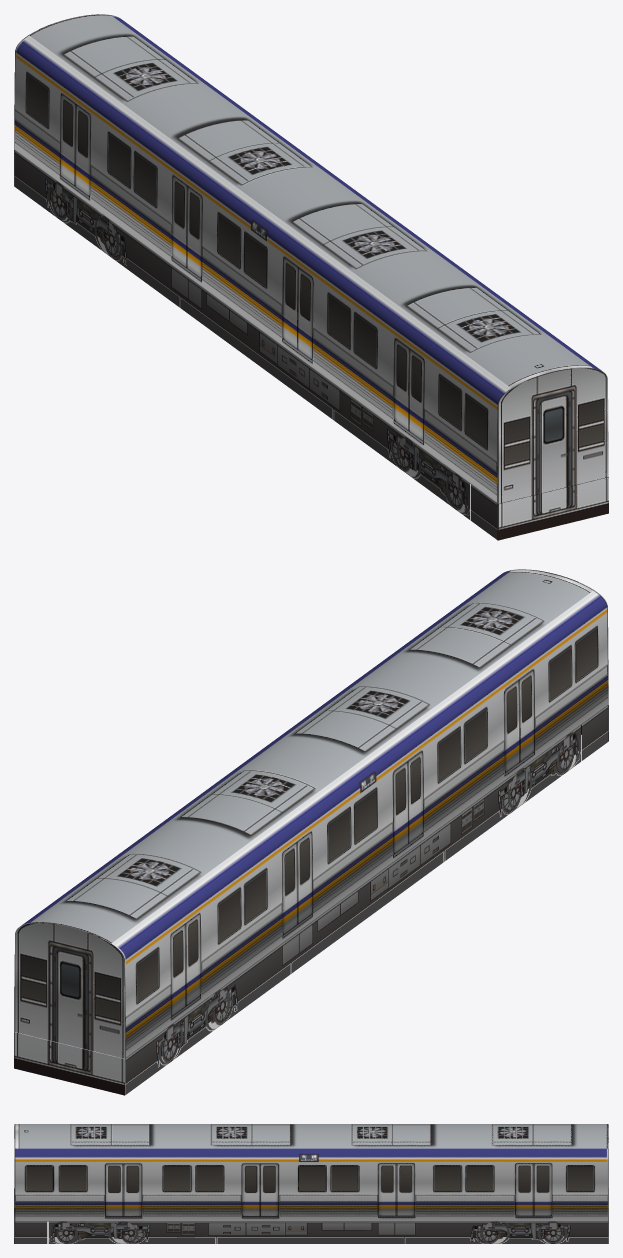
File: car3.glb
The picture shows the model from 3 angles, top to bottom: view 1: azimuth 30°, elevation 25°; view 2: azimuth 150°, elevation 25°; view 3: azimuth 270°, elevation 25°; orthographic projection. The views are drawn at different scales.
Visible parts, largest first — view 1: nankai-9000-car3; view 2: nankai-9000-car3; view 3: nankai-9000-car3.
Part boxes in pixels (left/top/right/bottom): nankai-9000-car3: left=14, top=14, right=608, bottom=540; nankai-9000-car3: left=14, top=569, right=608, bottom=1095; nankai-9000-car3: left=14, top=1124, right=608, bottom=1243.
Bounding box in the file's own units: 2.74 × 3.65 × 20.73.
9 materials, 8 textured.
